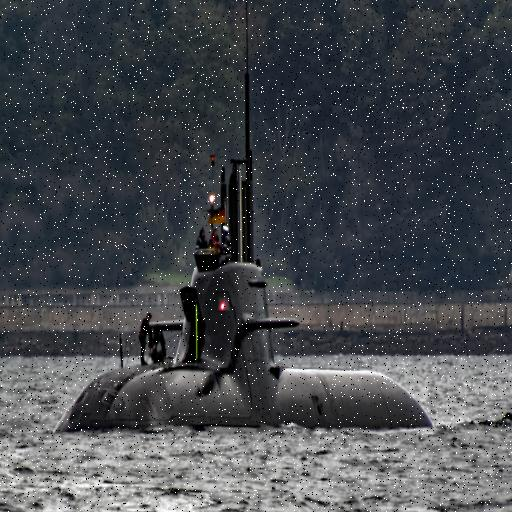submarine: (47, 7, 435, 438)
